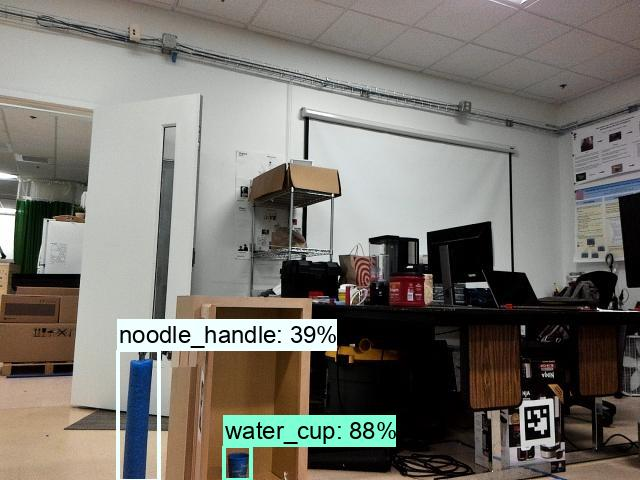noodle_handle: (124, 352, 155, 480)
water_cup: (224, 448, 251, 480)
